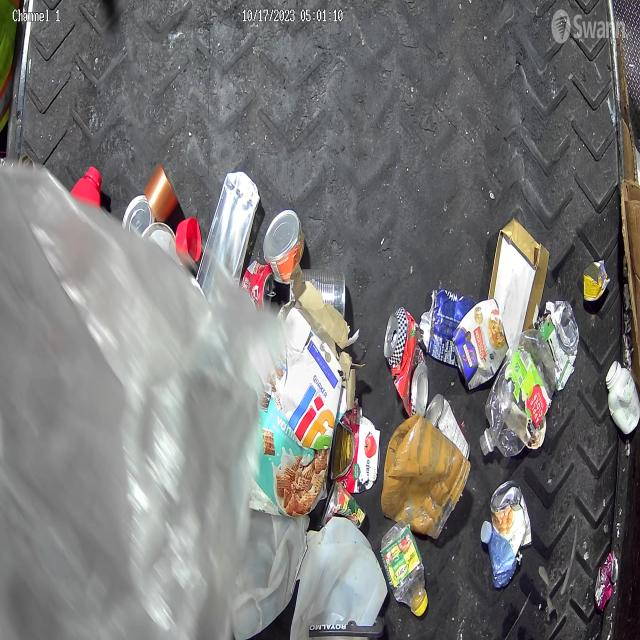can: (450, 298, 509, 388), (383, 306, 429, 419), (537, 300, 580, 392), (256, 208, 300, 290), (289, 266, 346, 320), (489, 478, 532, 548), (594, 548, 618, 613), (241, 264, 272, 310)
